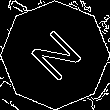N_SE: (23, 23, 87, 87)
